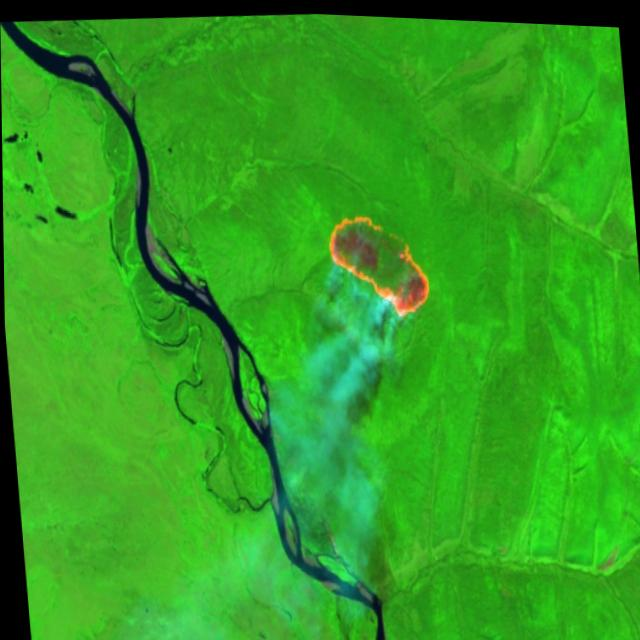fire: (320, 201, 434, 326)
